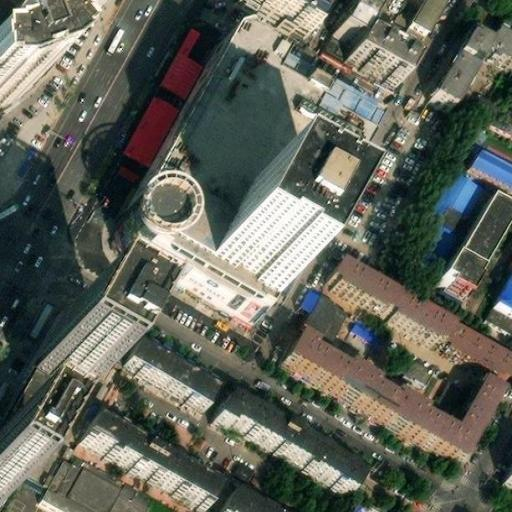building: (141, 8, 386, 297), (279, 334, 466, 465), (327, 255, 512, 381), (209, 399, 354, 500), (79, 420, 211, 507), (215, 174, 322, 281), (428, 22, 512, 102), (38, 300, 116, 385), (114, 347, 209, 416), (41, 452, 150, 512), (449, 182, 512, 279), (415, 165, 484, 250), (148, 23, 213, 103), (341, 31, 406, 83), (446, 383, 494, 443), (260, 0, 329, 31), (306, 290, 347, 331), (476, 142, 512, 175), (485, 91, 512, 133), (51, 0, 96, 20), (412, 0, 444, 26), (497, 273, 512, 307), (496, 457, 511, 491), (302, 282, 322, 304)
